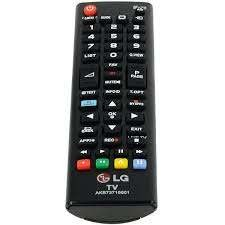remote control: (71, 0, 160, 219)
